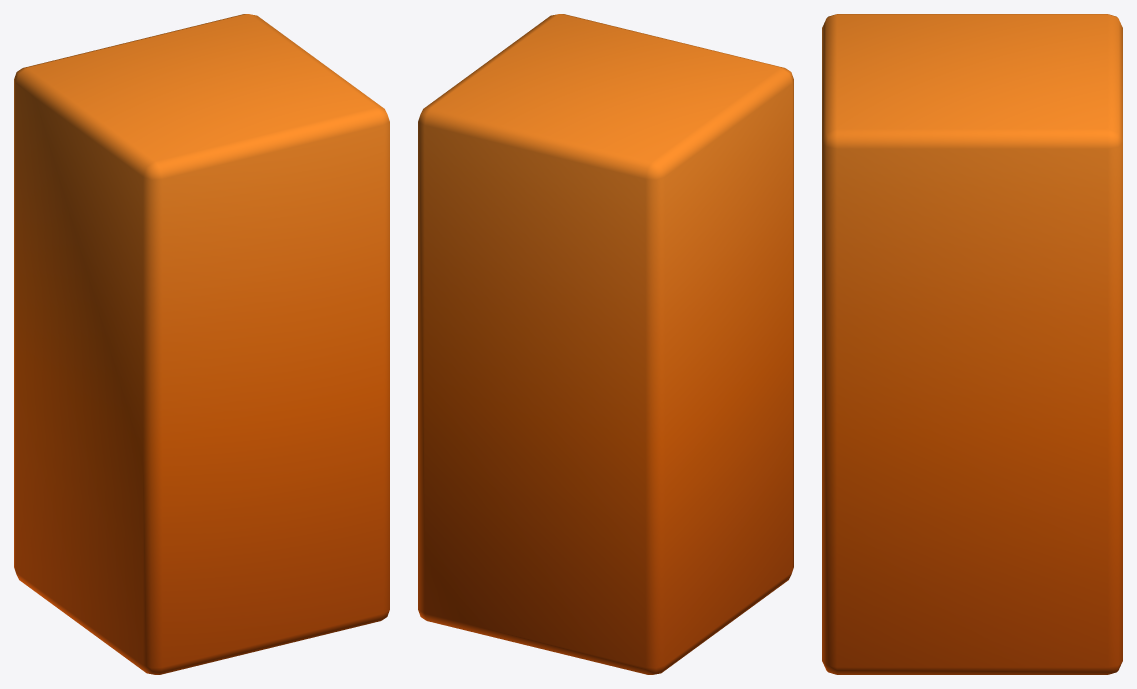
The model's file is 3D_Tile_Ground_03x2.fbx.
3 views of the same model, side by side, from view 1: azimuth 30°, elevation 25°; view 2: azimuth 150°, elevation 25°; view 3: azimuth 270°, elevation 25° (orthographic). The views are drawn at different scales.
Parts seen in each view (by area): view 1: 3D_Tile_Ground_03x2; view 2: 3D_Tile_Ground_03x2; view 3: 3D_Tile_Ground_03x2.
Boxes of the visible parts, left/top/right/bottom form: 3D_Tile_Ground_03x2: left=14, top=14, right=389, bottom=674; 3D_Tile_Ground_03x2: left=418, top=14, right=793, bottom=674; 3D_Tile_Ground_03x2: left=822, top=14, right=1122, bottom=674.
Bounding box in the file's own units: 200 × 400 × 200.
